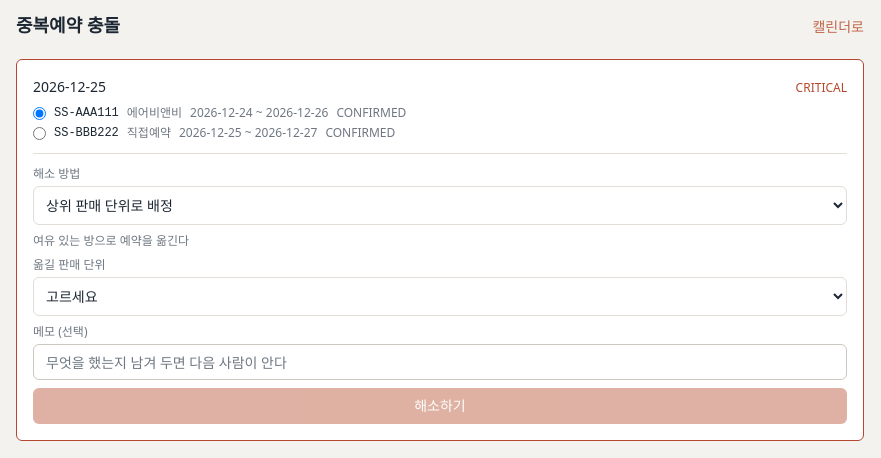
it: 충돌 해소 › 취소와 보상을 고르면 되돌릴 수 없다는 문구가 뜬다
Expected: the text "SS-AAA111" is shown, 54,105 -> 119,121
Select "취소와 보상" in the dropdown labelled "해소 방법" at (440, 206), box 33,186 -> 847,225
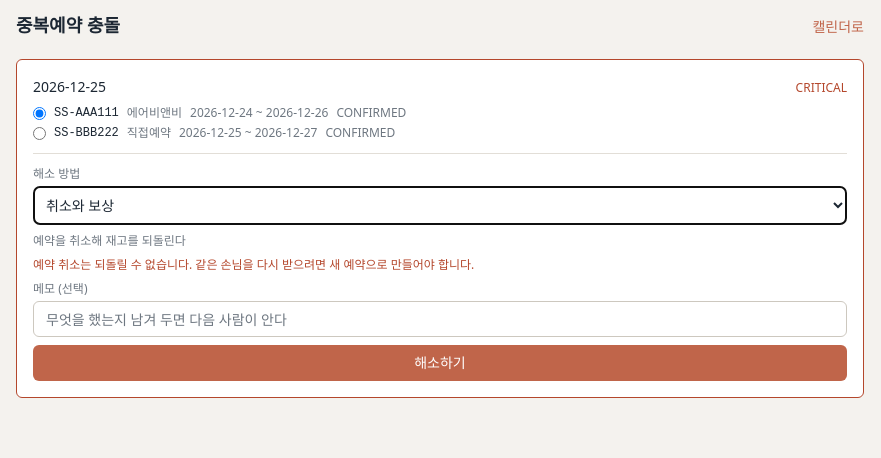
Expected: the text with test id "cancel-irreversible" shows "되돌릴 수 없습니다", 33,256 -> 474,273
